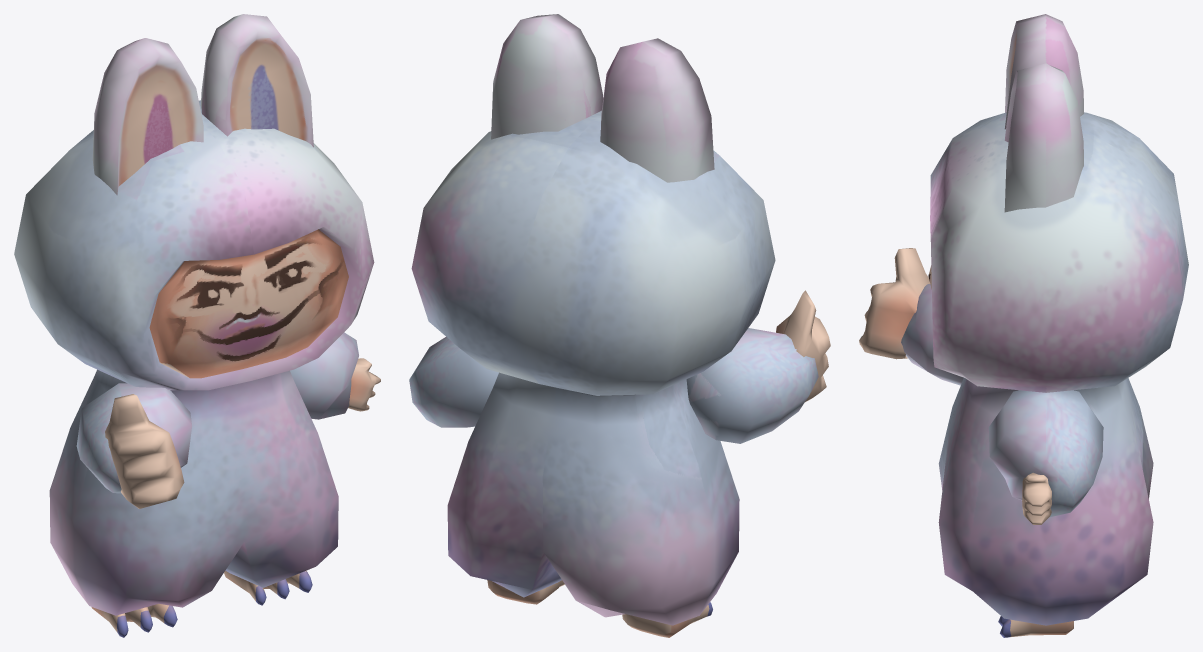
Rendered from GachiBubu.fbx.
3 views of the same model, side by side, from view 1: azimuth 30°, elevation 25°; view 2: azimuth 150°, elevation 25°; view 3: azimuth 270°, elevation 25° (orthographic). The views are drawn at different scales.
Parts seen in each view (by area): view 1: Cube; view 2: Cube; view 3: Cube.
Boxes of the visible parts, x1=… form: Cube: x1=14, y1=14, x2=380, y2=637; Cube: x1=409, y1=14, x2=830, y2=637; Cube: x1=859, y1=14, x2=1188, y2=637.
Size of the model in its own units: 169 by 274 by 148.
Materials: 1 (1 with a texture image).
